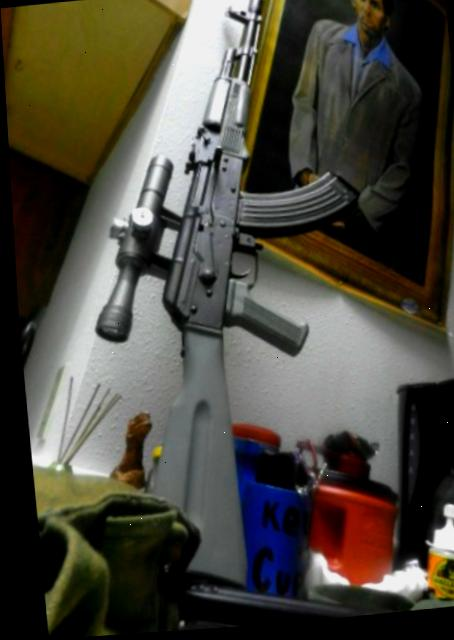rifle: (55, 0, 381, 608)
